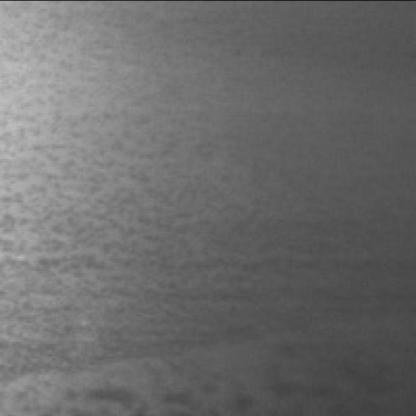pitted_surface: (4, 106, 414, 379)
